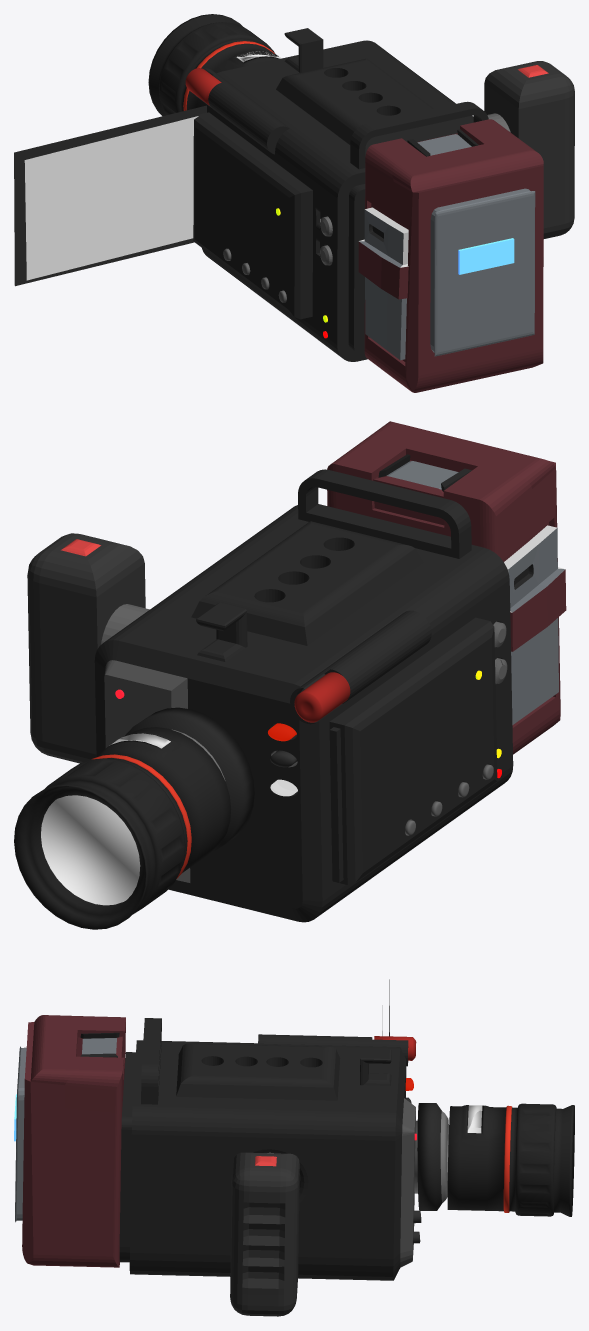
The model's file is video_camera backup.glb.
3 views of the same model, one above another, from view 1: azimuth 30°, elevation 25°; view 2: azimuth 150°, elevation 25°; view 3: azimuth 270°, elevation 25° (orthographic). The views are drawn at different scales.
Parts seen in each view (by area): view 1: Cube.007_metalBlack.038_0.001, Cube.006_Material.017_0.001, camlens, Cube.006_Material.010_0.001, Cube.004_Material.011_0.001, Cylinder.039_Material.015_0.001, camlens.001, Cylinder.038_metalBlack.038_0.001, Cube.006_Material.018_0.001, Cube.005_metalBlack.038_0.001, Cylinder.036_metalBlack.037_0.001, Cube.006_Material.009_0.001; view 2: Cube.007_metalBlack.038_0.001, Cylinder.039_Material.015_0.001, Cube.006_Material.017_0.001, Cube.004_Material.011_0.001, lens, Cube.006_Material.010_0.001, Cube.007_Material.012_0.001, Cylinder.040_metalBlack.038_0.001, Cylinder.038_metalBlack.038_0.001, Cube.005_metalBlack.038_0.001, Cylinder.036_metalBlack.037_0.001, Cylinder.039_Material.013_0.001 (+2 smaller); view 3: Cube.007_metalBlack.038_0.001, Cube.006_Material.017_0.001, Cylinder.039_Material.015_0.001, Cube.004_Material.011_0.001, Cylinder.040_metalBlack.038_0.001, Cube.007_Material.012_0.001, Cube.006_Material.010_0.001, Cylinder.038_metalBlack.038_0.001, Cube.005_metalBlack.038_0.001, Cylinder.040_Material.016_0.001, Cylinder.039_Material.013_0.001.
Part boxes in pixels (<box>): Cube.007_metalBlack.038_0.001: <box>193,40,488,361</box>; Cube.006_Material.017_0.001: <box>358,119,543,392</box>; camlens: <box>24,116,198,280</box>; Cube.006_Material.010_0.001: <box>359,134,535,360</box>; Cube.004_Material.011_0.001: <box>484,61,574,238</box>; Cylinder.039_Material.015_0.001: <box>148,14,279,116</box>; camlens.001: <box>14,105,206,286</box>; Cylinder.038_metalBlack.038_0.001: <box>195,68,289,154</box>; Cube.006_Material.018_0.001: <box>458,238,514,274</box>; Cube.005_metalBlack.038_0.001: <box>284,28,323,72</box>; Cylinder.036_metalBlack.037_0.001: <box>185,68,221,105</box>; Cube.006_Material.009_0.001: <box>359,207,408,267</box>; Cube.007_metalBlack.038_0.001: <box>94,469,513,922</box>; Cylinder.039_Material.015_0.001: <box>14,727,230,929</box>; Cube.006_Material.017_0.001: <box>327,421,566,754</box>; Cube.004_Material.011_0.001: <box>27,533,145,763</box>; lens: <box>41,795,140,905</box>; Cube.006_Material.010_0.001: <box>386,461,564,724</box>; Cube.007_Material.012_0.001: <box>104,660,412,882</box>; Cylinder.040_metalBlack.038_0.001: <box>125,707,254,851</box>; Cylinder.038_metalBlack.038_0.001: <box>290,610,431,724</box>; Cube.005_metalBlack.038_0.001: <box>196,602,247,661</box>; Cylinder.036_metalBlack.037_0.001: <box>294,672,350,722</box>; Cylinder.039_Material.013_0.001: <box>91,754,191,878</box>; Cube.007_metalBlack.038_0.001: <box>119,1018,406,1280</box>; Cube.006_Material.017_0.001: <box>22,1015,125,1267</box>; Cylinder.039_Material.015_0.001: <box>447,1103,574,1216</box>; Cube.004_Material.011_0.001: <box>230,1152,299,1316</box>; Cylinder.040_metalBlack.038_0.001: <box>417,1103,442,1210</box>; Cube.007_Material.012_0.001: <box>400,1097,415,1267</box>; Cube.006_Material.010_0.001: <box>15,1038,116,1222</box>; Cylinder.038_metalBlack.038_0.001: <box>258,1034,408,1066</box>; Cube.005_metalBlack.038_0.001: <box>360,1048,391,1085</box>; Cylinder.040_Material.016_0.001: <box>414,1111,448,1202</box>; Cylinder.039_Material.013_0.001: <box>503,1105,511,1212</box>.
Size of the model in its own units: 0.7815 by 0.3634 by 0.8485.
